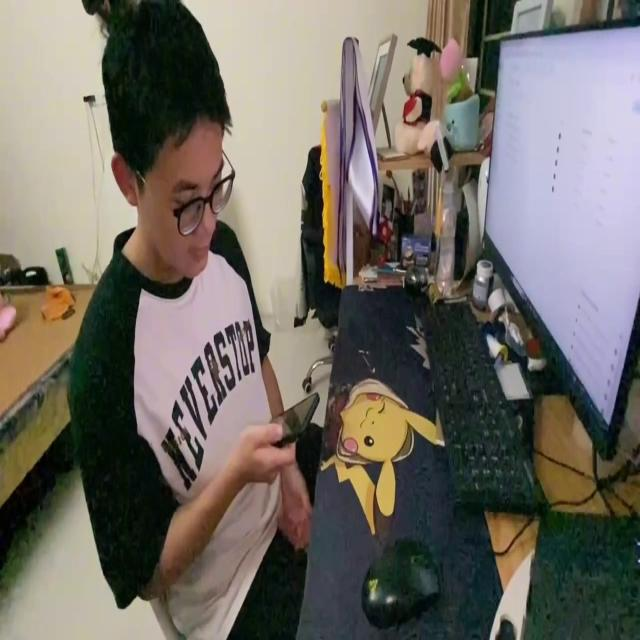laptop: (479, 11, 640, 462)
phone: (267, 389, 320, 442)
student: (70, 0, 319, 640)
